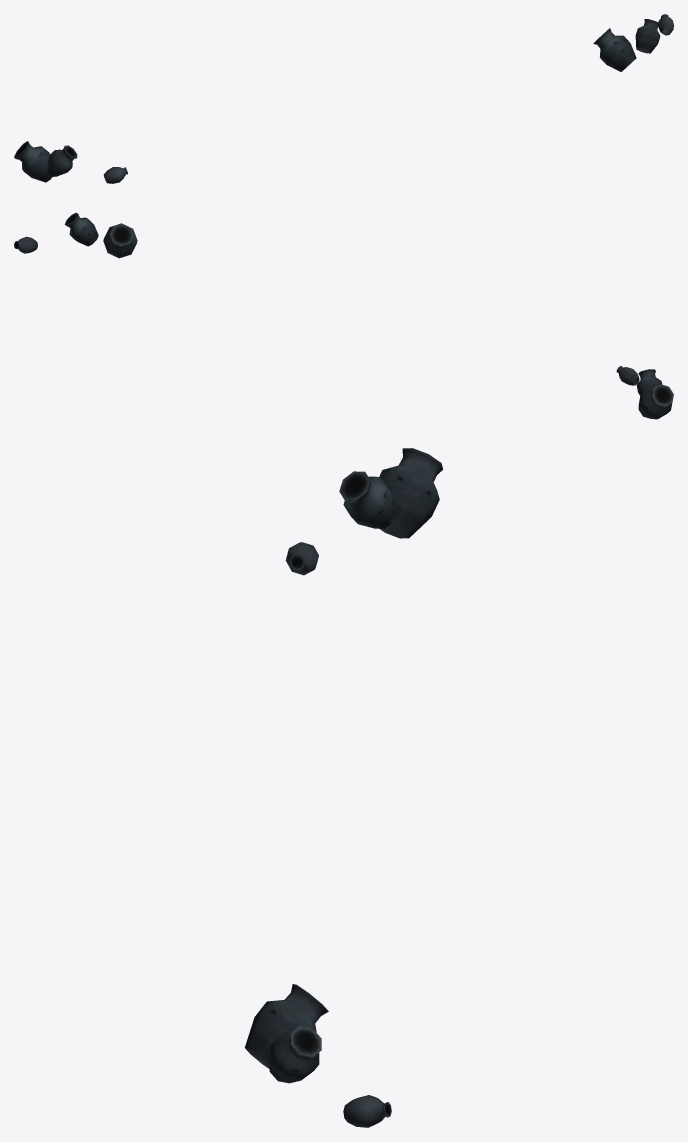
Rendered from Area07_20.fbx.
3 views of the same model, one above another, from view 1: azimuth 30°, elevation 25°; view 2: azimuth 150°, elevation 25°; view 3: azimuth 270°, elevation 25° (orthographic). The views are drawn at different scales.
Parts seen in each view (by area): view 1: Area07_20; view 2: Area07_20; view 3: Area07_20.
Boxes of the visible parts, x1=… form: Area07_20: x1=14, y1=14, x2=673, y2=183; Area07_20: x1=14, y1=212, x2=673, y2=419; Area07_20: x1=244, y1=448, x2=443, y2=1127.
Size of the model in its own units: 2496 by 144 by 333.
